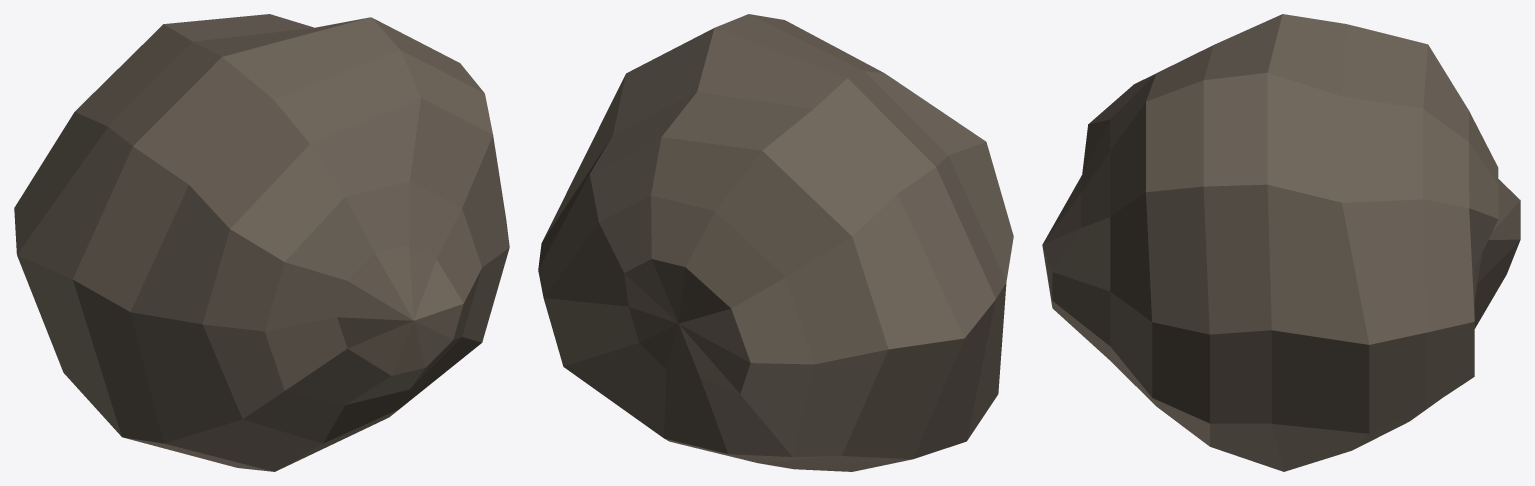
Rendered from meteor (1).fbx.
3 views of the same model, side by side, from view 1: azimuth 30°, elevation 25°; view 2: azimuth 150°, elevation 25°; view 3: azimuth 270°, elevation 25° (orthographic).
Parts seen in each view (by area): view 1: pSphere1; view 2: pSphere1; view 3: pSphere1.
Boxes of the visible parts, x1,y1,x2,y2 form: pSphere1: (14, 14, 509, 471); pSphere1: (538, 14, 1013, 471); pSphere1: (1042, 14, 1520, 471).
Size of the model in its own units: 2.4 by 2.23 by 2.31.
